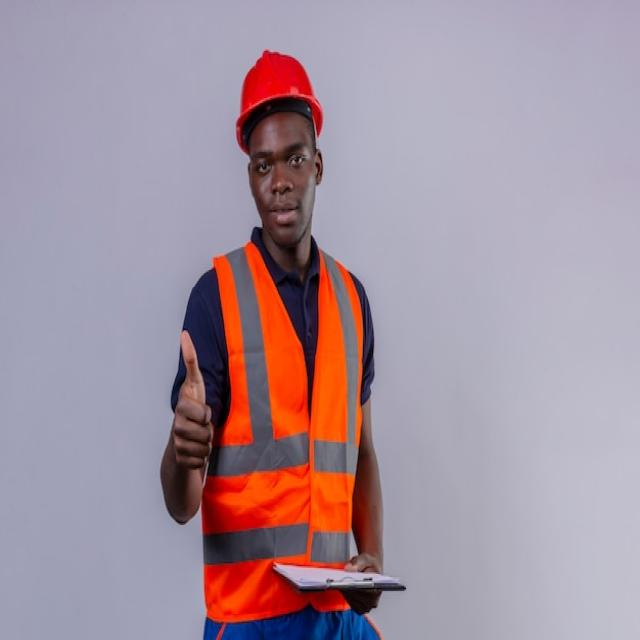helmet: (233, 42, 324, 151)
no-goggles: (239, 129, 328, 183)
vest: (200, 233, 359, 618)
